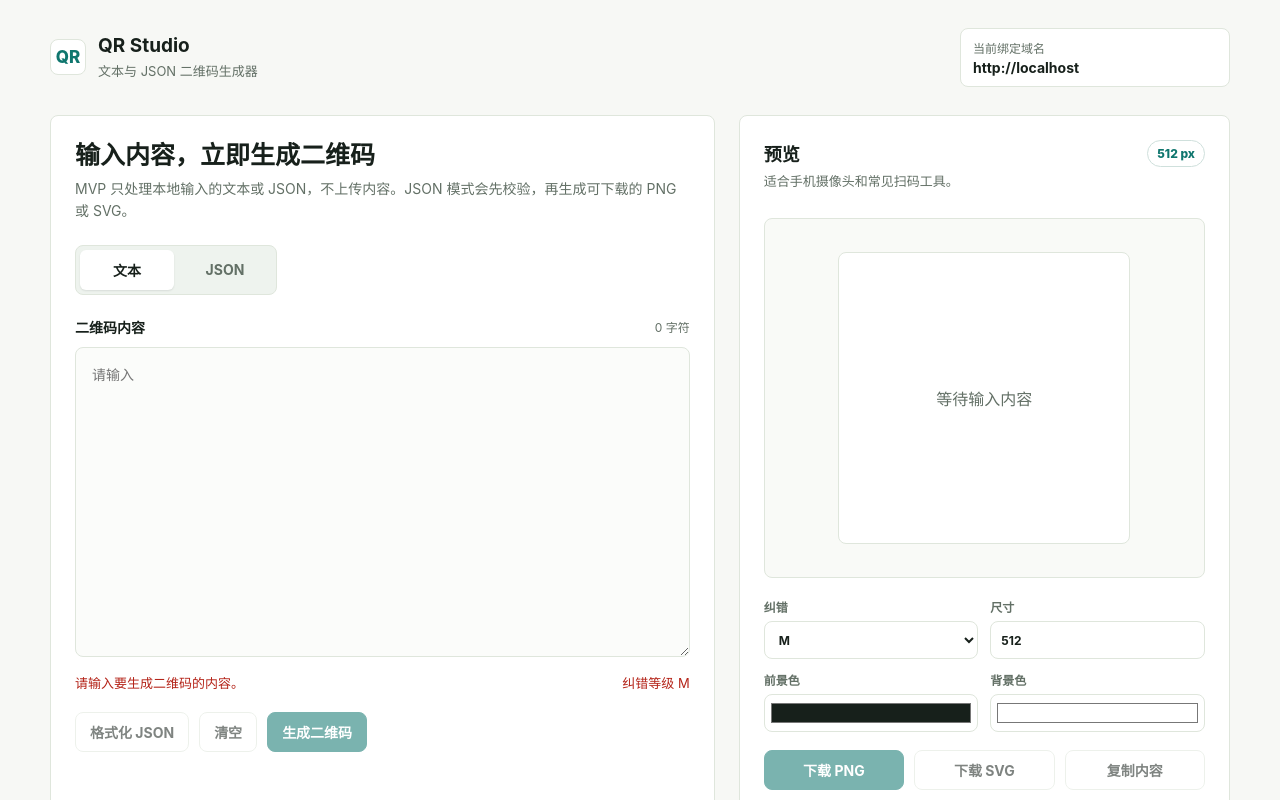
it: App › blocks primitive JSON values in json mode
Click the button "JSON" at (225, 270), box [178,250,272,290]
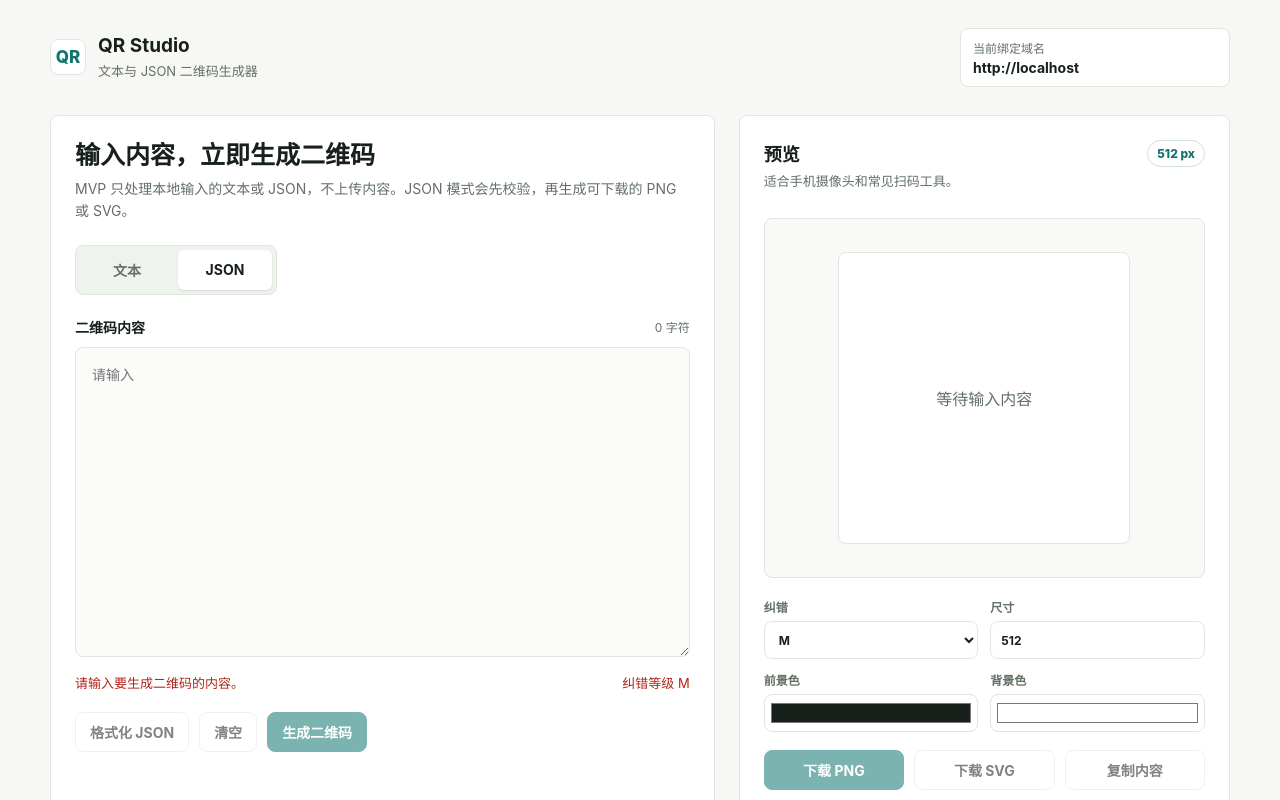
Type "47217572142333535" into the text box labelled "二维码内容" at (382, 502), box [75,347,690,657]
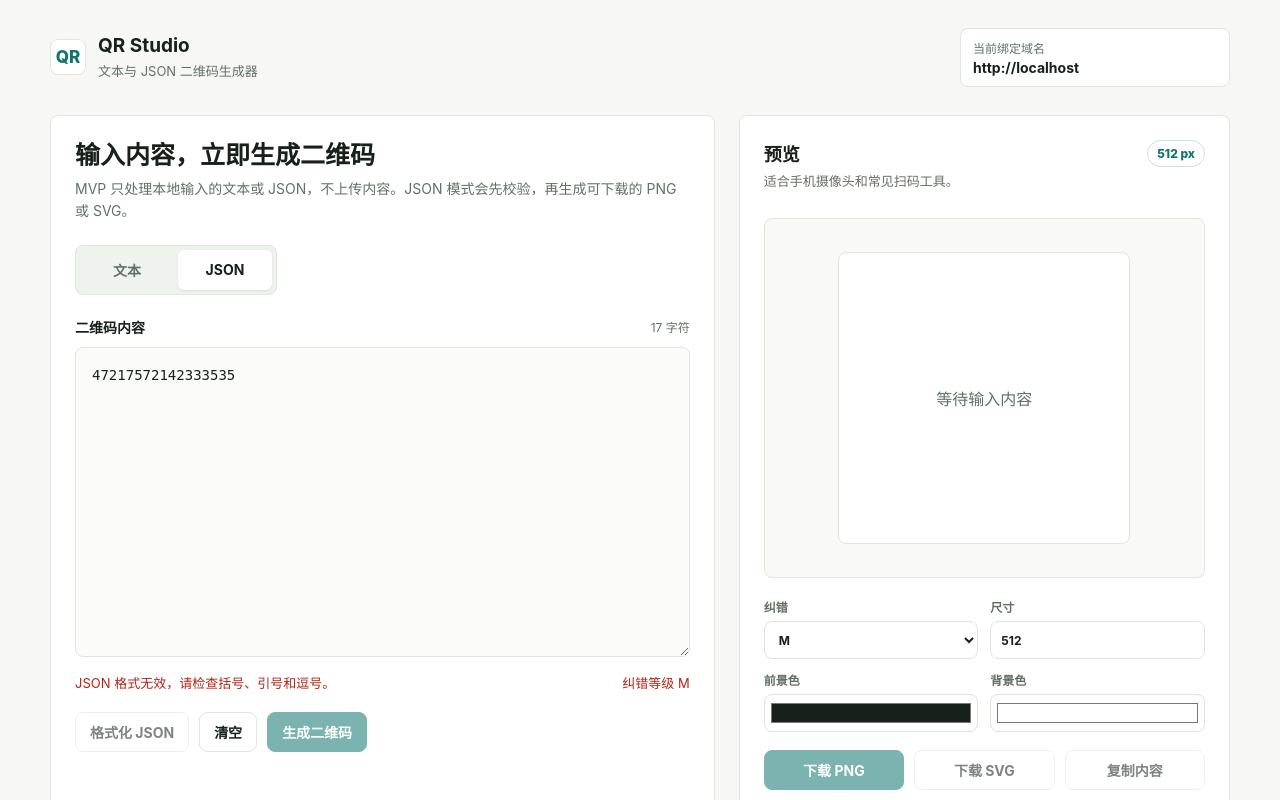
Expected: the button "格式化 JSON" is disabled, [75,712,189,752]
Expected: the text "JSON 格式无效，请检查括号、引号和逗号。" is shown, [75,675,335,691]
